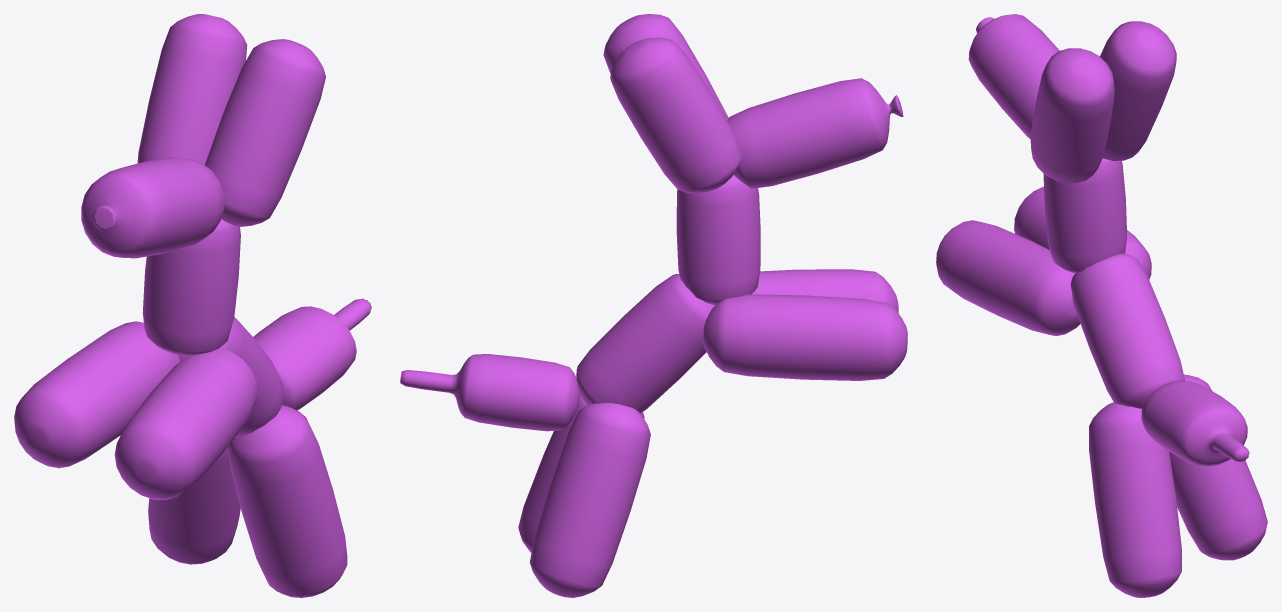
The model's file is Gallery_BalloonDogStatue.fbx.
The picture shows the model from 3 angles, left to right: view 1: azimuth 30°, elevation 25°; view 2: azimuth 150°, elevation 25°; view 3: azimuth 270°, elevation 25°; orthographic projection. The views are drawn at different scales.
Visible parts, largest first — view 1: pCylinder7, pCylinder11, pCylinder5, pCylinder4, pCylinder9, pCylinder10, pCylinder8, pCylinder12, pCylinder6, pCylinder2; view 2: pCylinder4, pCylinder6, pCylinder10, pCylinder9, pCylinder2, pCylinder12, pCylinder8, pCylinder5, pCylinder11, pCylinder7; view 3: pCylinder7, pCylinder2, pCylinder5, pCylinder11, pCylinder6, pCylinder8, pCylinder10, pCylinder12, pCylinder9, pCylinder4.
Part boxes in pixels (x1=…): pCylinder7: x1=228, y1=405, x2=347, y2=597; pCylinder11: x1=205, y1=39, x2=325, y2=226; pCylinder5: x1=114, y1=348, x2=258, y2=500; pCylinder4: x1=14, y1=321, x2=179, y2=468; pCylinder9: x1=81, y1=157, x2=223, y2=258; pCylinder10: x1=137, y1=14, x2=247, y2=164; pCylinder8: x1=142, y1=219, x2=240, y2=356; pCylinder12: x1=253, y1=298, x2=371, y2=410; pCylinder6: x1=148, y1=447, x2=240, y2=564; pCylinder2: x1=178, y1=317, x2=283, y2=437; pCylinder4: x1=703, y1=294, x2=907, y2=380; pCylinder6: x1=529, y1=403, x2=650, y2=597; pCylinder10: x1=610, y1=37, x2=741, y2=193; pCylinder9: x1=727, y1=78, x2=903, y2=188; pCylinder2: x1=576, y1=274, x2=714, y2=413; pCylinder12: x1=400, y1=354, x2=579, y2=431; pCylinder8: x1=676, y1=175, x2=760, y2=305; pCylinder5: x1=752, y1=269, x2=898, y2=313; pCylinder11: x1=603, y1=14, x2=728, y2=119; pCylinder7: x1=518, y1=392, x2=644, y2=552; pCylinder7: x1=1089, y1=402, x2=1181, y2=597; pCylinder2: x1=1070, y1=253, x2=1184, y2=408; pCylinder5: x1=936, y1=220, x2=1080, y2=335; pCylinder11: x1=1030, y1=48, x2=1114, y2=183; pCylinder6: x1=1169, y1=374, x2=1267, y2=560; pCylinder8: x1=1043, y1=158, x2=1126, y2=273; pCylinder10: x1=1100, y1=21, x2=1176, y2=160; pCylinder12: x1=1141, y1=380, x2=1249, y2=466; pCylinder9: x1=968, y1=14, x2=1059, y2=139; pCylinder4: x1=1014, y1=186, x2=1151, y2=279.
Size of the model in its own units: 22.5 by 28.47 by 16.31.
